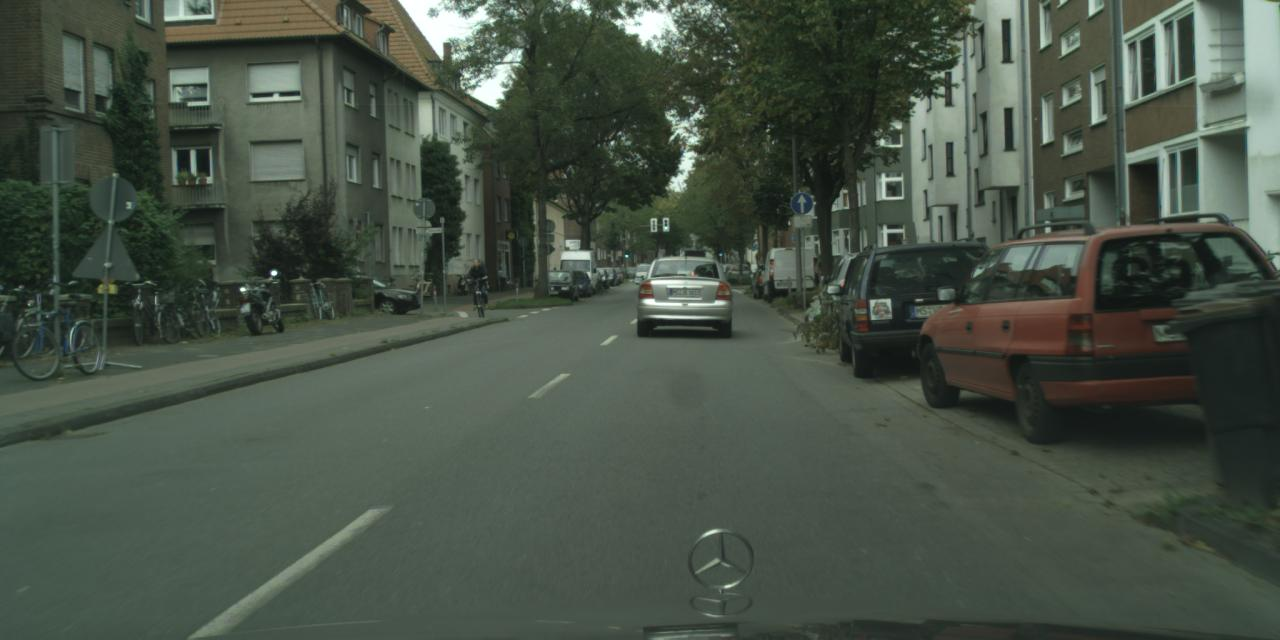ped: (468, 258, 488, 308)
